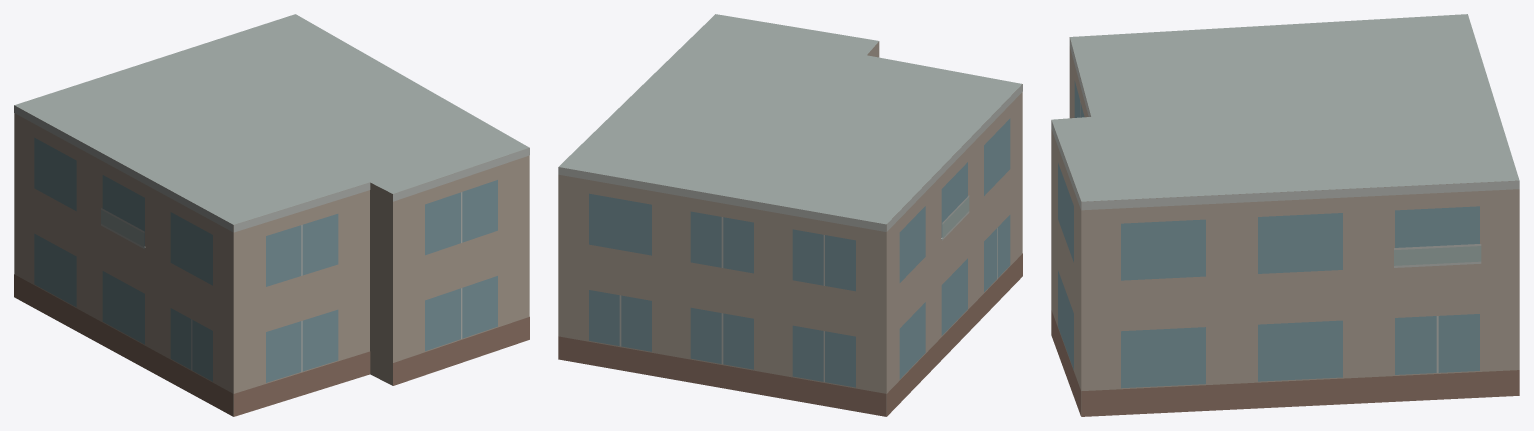
File: survey-upis-32740237.glb
3 renders of one model, left to right at view 1: azimuth 30°, elevation 25°; view 2: azimuth 150°, elevation 25°; view 3: azimuth 270°, elevation 25°, orthographic. The views are drawn at different scales.
Visible parts, largest first — view 1: survey-upis-32740237.tmp; view 2: survey-upis-32740237.tmp; view 3: survey-upis-32740237.tmp.
Boxes of the visible parts, left/top/right/bottom form: survey-upis-32740237.tmp: left=14, top=14, right=529, bottom=416; survey-upis-32740237.tmp: left=558, top=14, right=1022, bottom=416; survey-upis-32740237.tmp: left=1051, top=14, right=1519, bottom=416.
Bounding box in the file's own units: 11.42 × 6.1 × 12.04.
